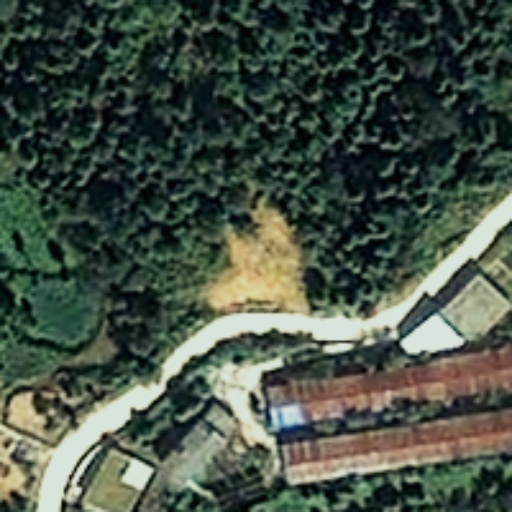landslide: (214, 202, 304, 311)
